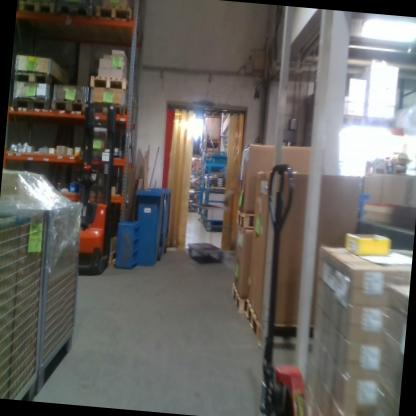pallet: (243, 296, 323, 351), (13, 67, 70, 87), (11, 93, 52, 116), (50, 95, 88, 119), (90, 71, 132, 92), (17, 0, 57, 21), (92, 5, 135, 24), (88, 100, 128, 120), (55, 2, 94, 19), (235, 207, 259, 231), (229, 283, 245, 317)
pallet_truck: (245, 150, 339, 416), (56, 96, 127, 283)
stillage: (35, 200, 86, 398), (0, 206, 52, 400)
